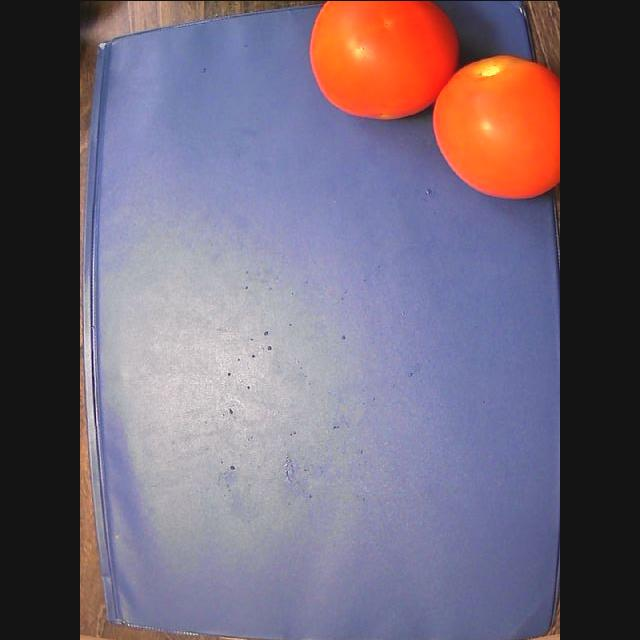tomate: (433, 55, 559, 197), (310, 1, 456, 119)
